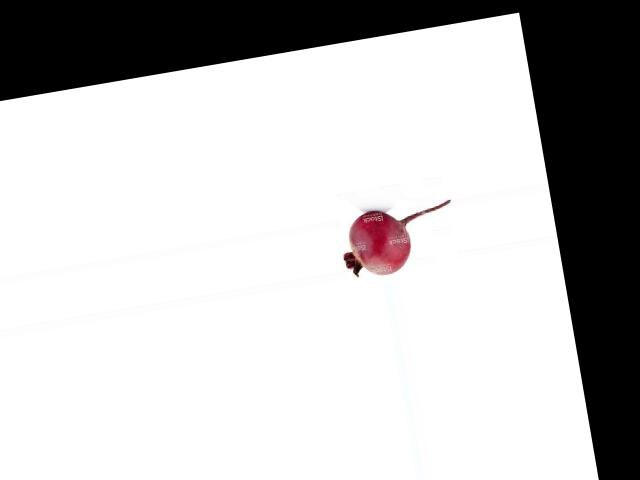beet: (336, 197, 460, 280)
